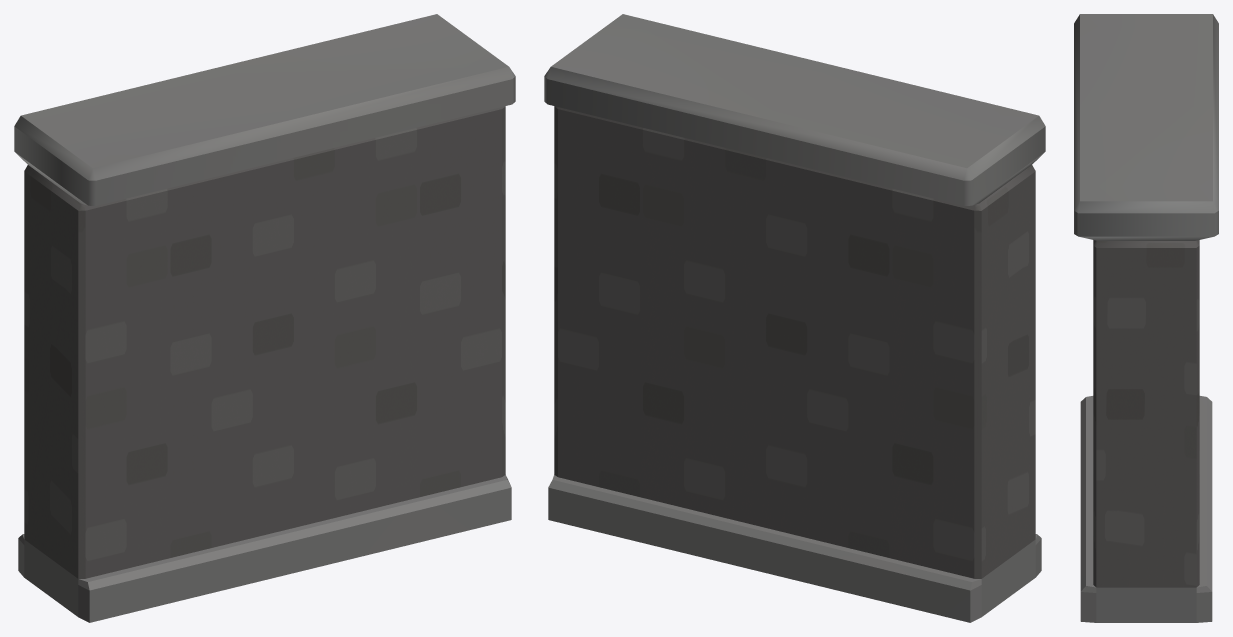
Rendered from HighWall_1_2.fbx.
The picture shows the model from 3 angles, left to right: view 1: azimuth 30°, elevation 25°; view 2: azimuth 150°, elevation 25°; view 3: azimuth 270°, elevation 25°; orthographic projection. The views are drawn at different scales.
Visible parts, largest first — view 1: HighWall_1_2; view 2: HighWall_1_2; view 3: HighWall_1_2.
Boxes of the visible parts, <box> form: HighWall_1_2: <box>14,14,515,622</box>; HighWall_1_2: <box>544,14,1045,622</box>; HighWall_1_2: <box>1074,14,1218,622</box>.
Bounding box in the file's own units: 2 × 2.03 × 0.6357.
